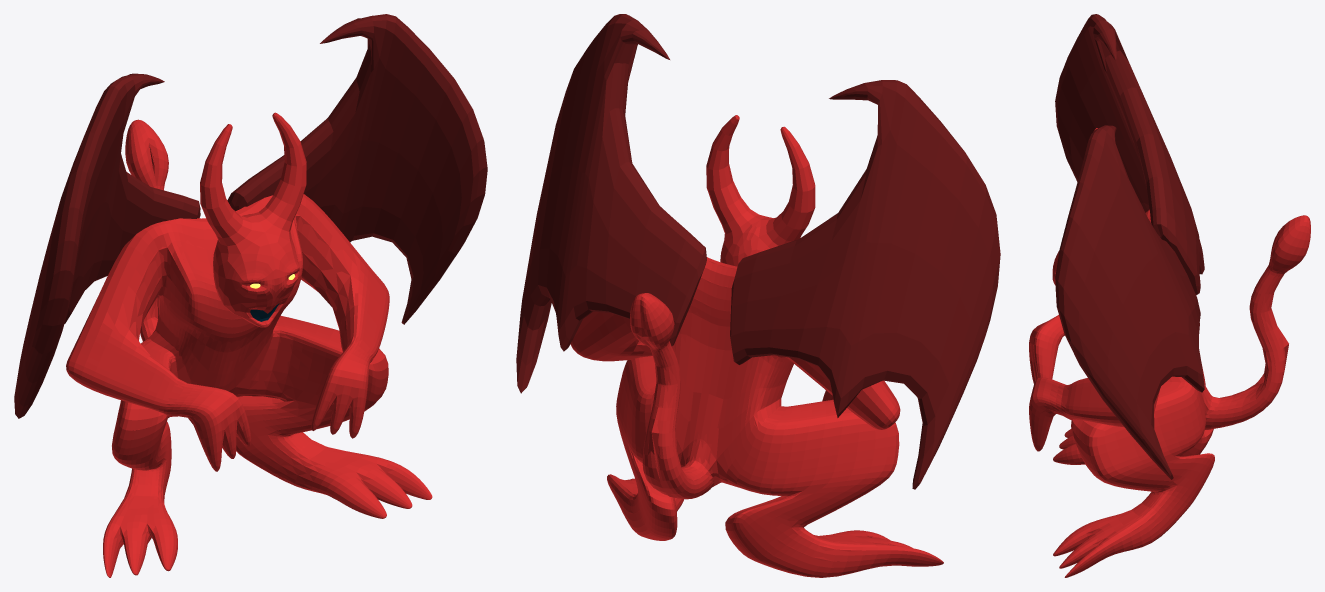
Rendered from Demon.fbx.
3 views of the same model, side by side, from view 1: azimuth 30°, elevation 25°; view 2: azimuth 150°, elevation 25°; view 3: azimuth 270°, elevation 25° (orthographic). The views are drawn at different scales.
Parts seen in each view (by area): view 1: Cube.017, Wings, Cube.018, Icosphere; view 2: Wings, Cube.017, Cube.018, Icosphere; view 3: Wings, Cube.017, Cube.018.
Boxes of the visible parts, x1=… form: Cube.017: x1=66, y1=119, x2=432, y2=577; Wings: x1=14, y1=14, x2=487, y2=418; Cube.018: x1=100, y1=145, x2=405, y2=555; Icosphere: x1=200, y1=112, x2=306, y2=327; Wings: x1=516, y1=14, x2=1000, y2=489; Cube.017: x1=570, y1=257, x2=943, y2=577; Cube.018: x1=620, y1=260, x2=900, y2=567; Icosphere: x1=706, y1=115, x2=815, y2=266; Wings: x1=1055, y1=14, x2=1204, y2=479; Cube.017: x1=1029, y1=209, x2=1310, y2=577; Cube.018: x1=1031, y1=259, x2=1288, y2=559.
Size of the model in its own units: 133 by 139 by 81.85.
